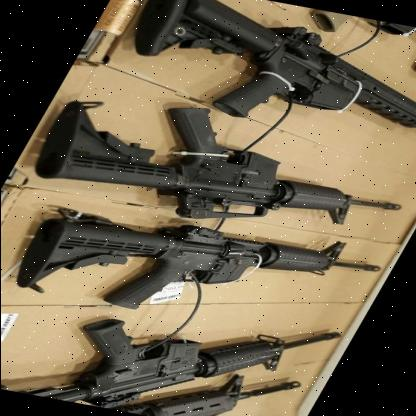rifle: (14, 87, 416, 253), (6, 188, 398, 338), (95, 18, 416, 150)
